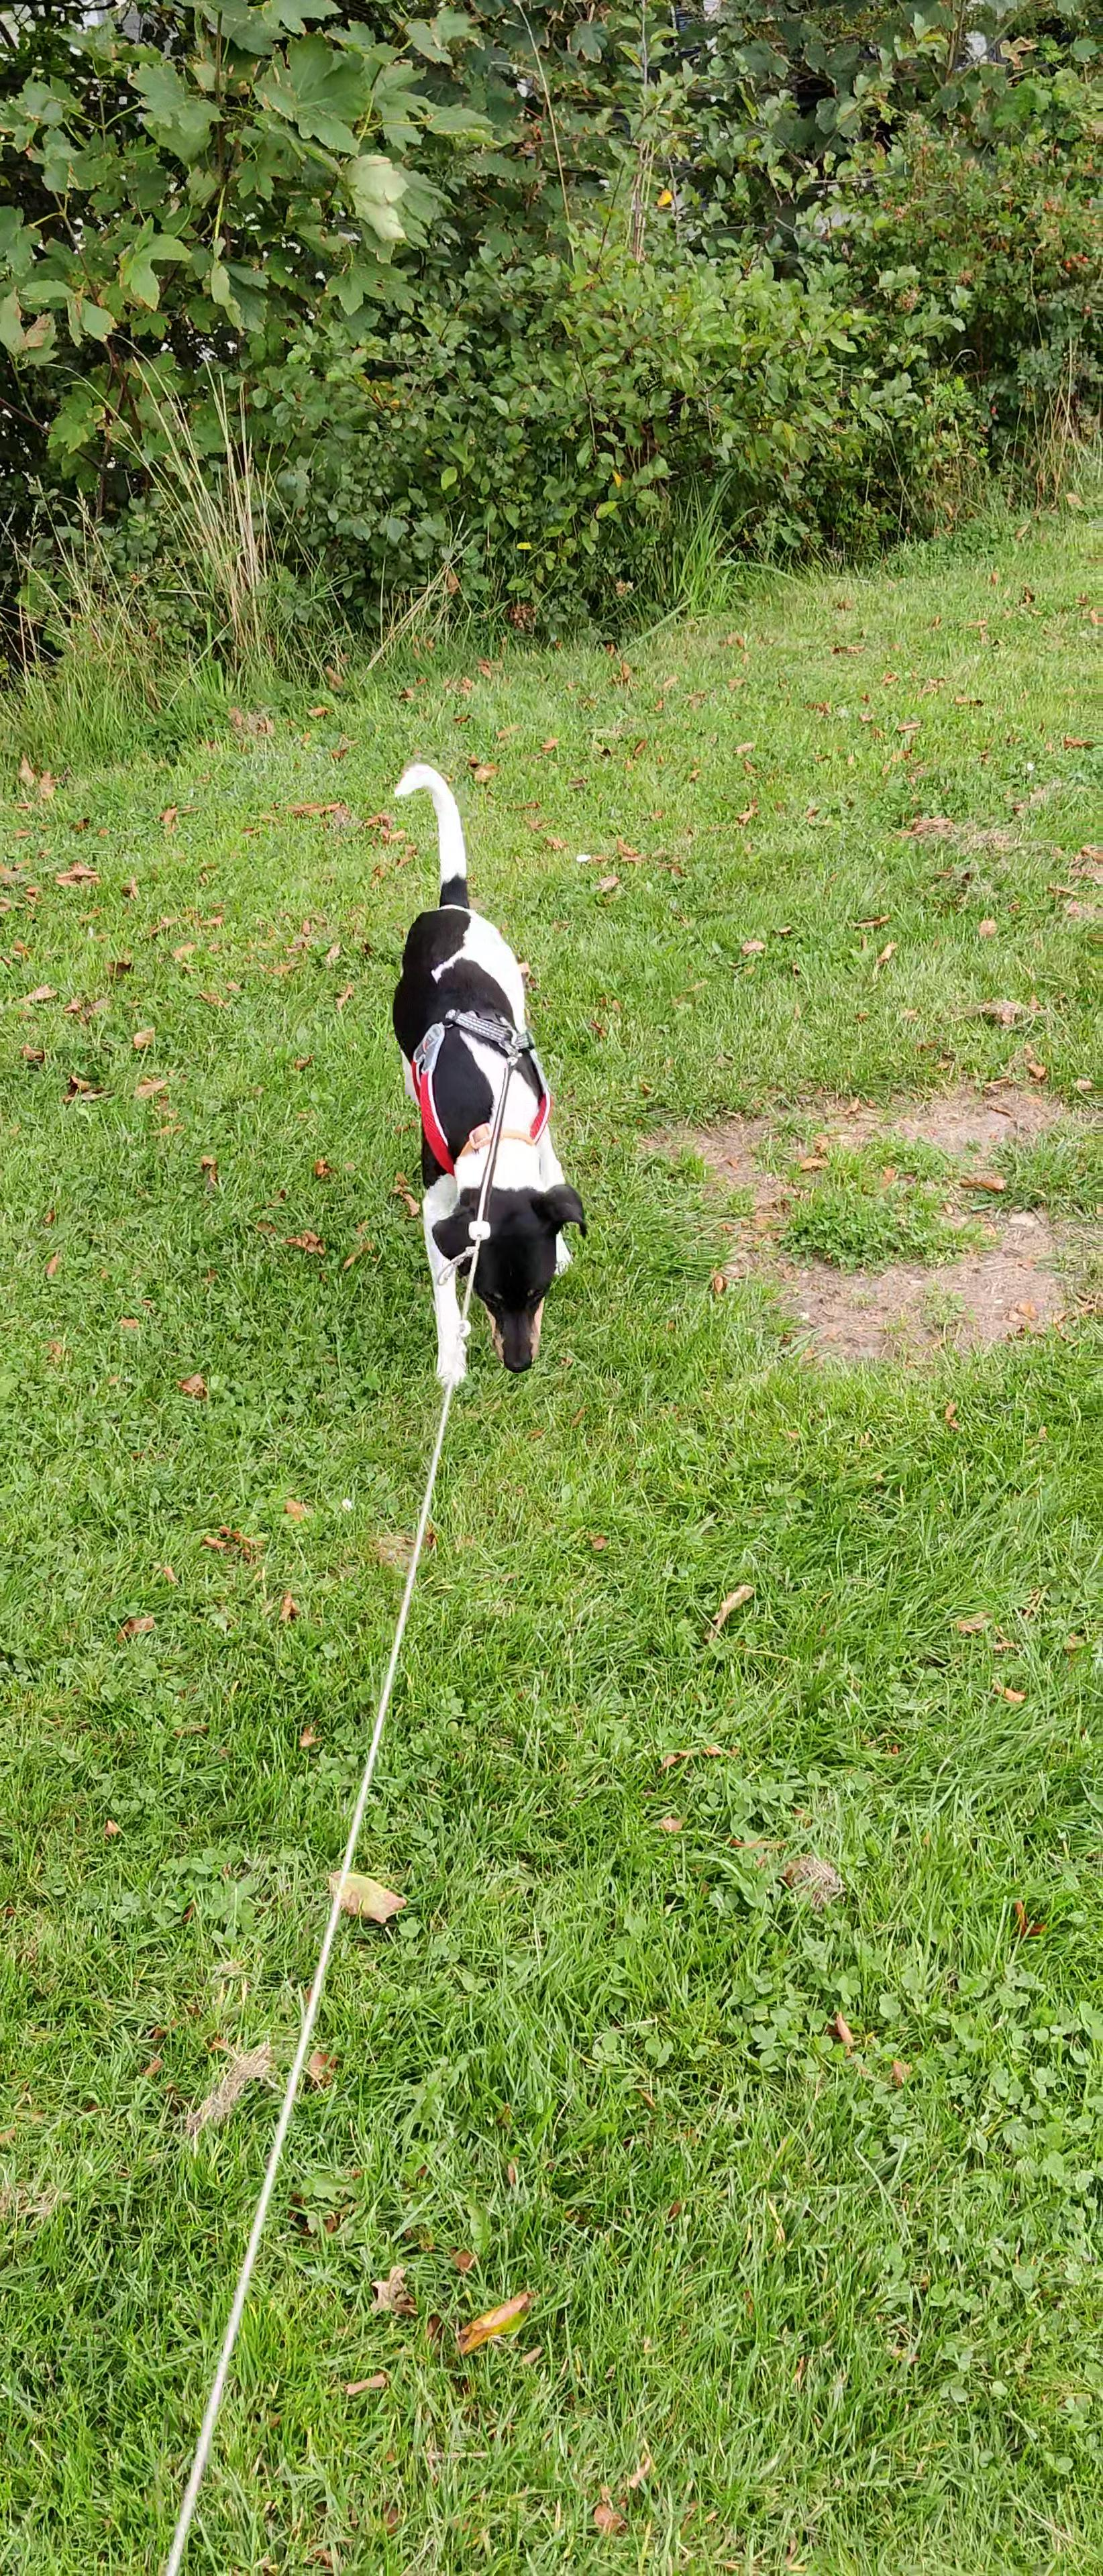Dog: (386, 759, 588, 1398)
